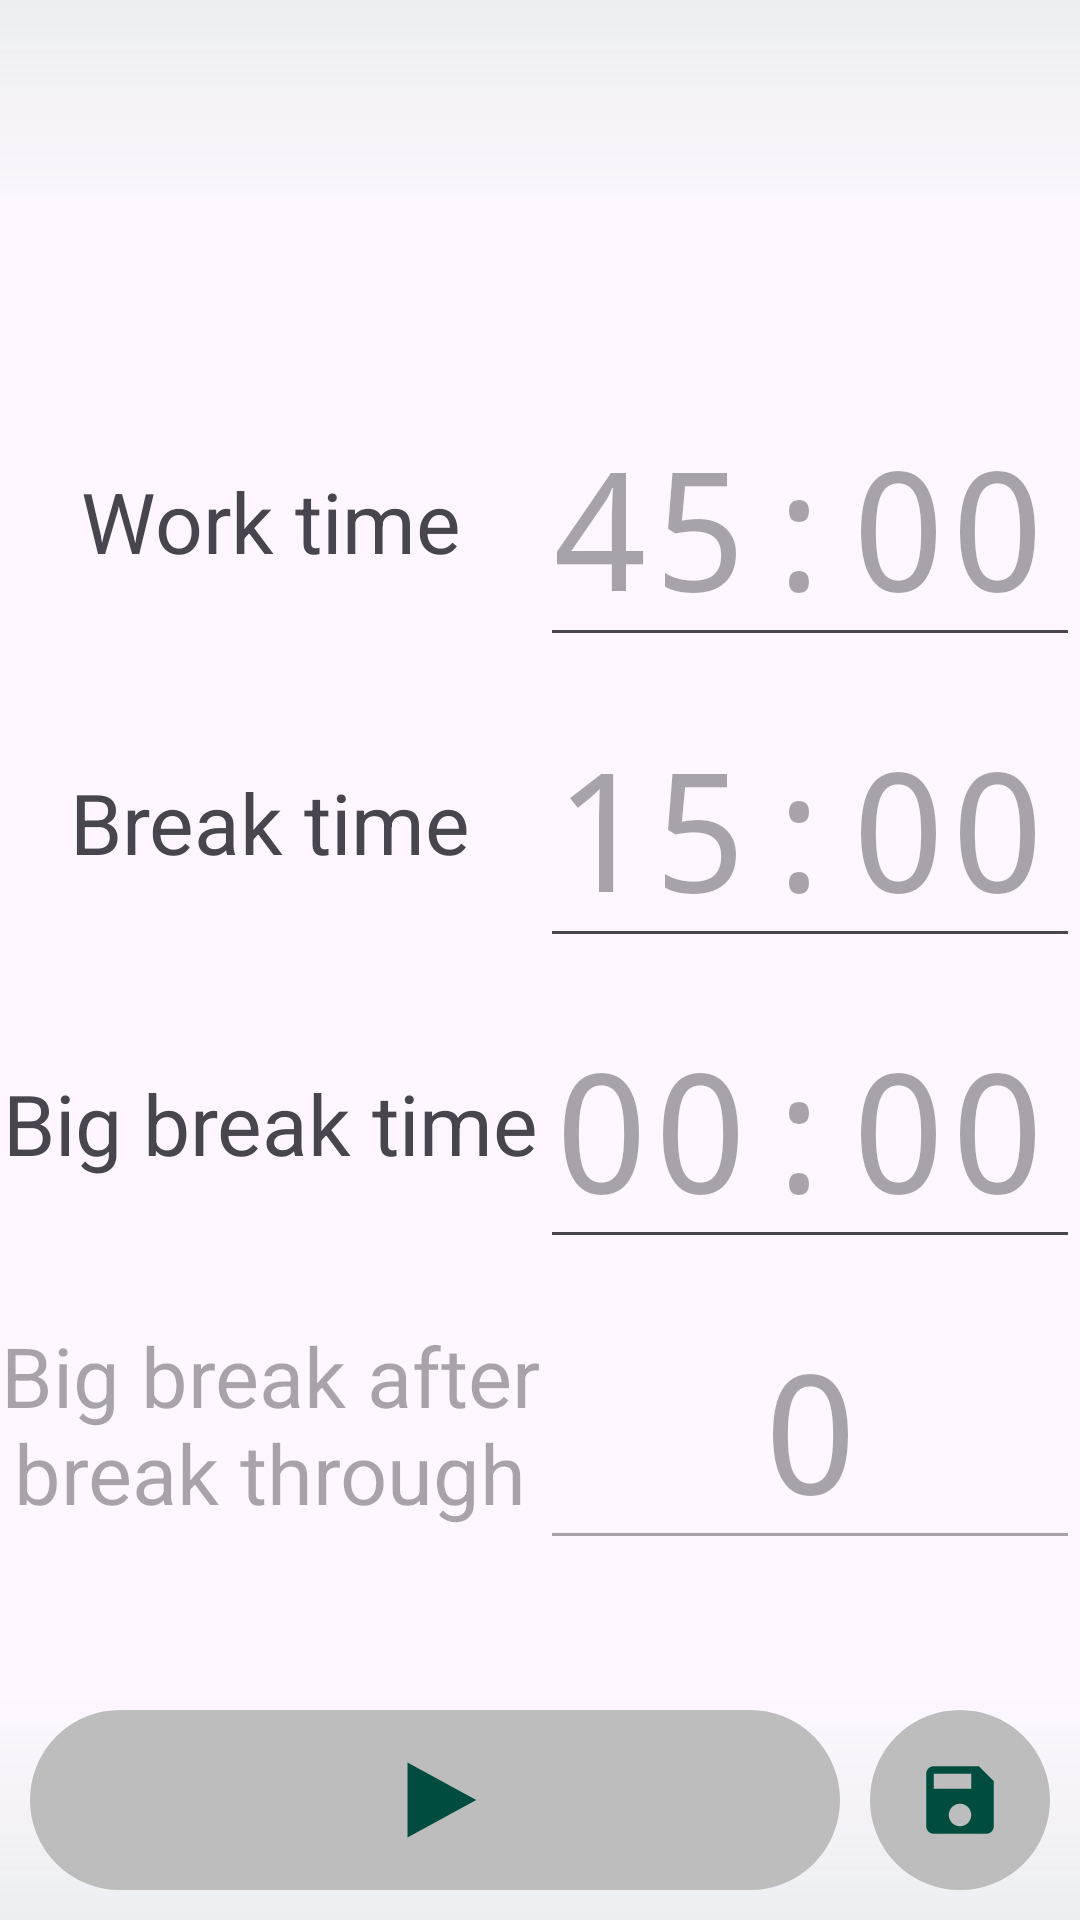

Named icons in this screenshot (1080x1920) and their centers, [x,y]:
Save timer: [960,1800]
